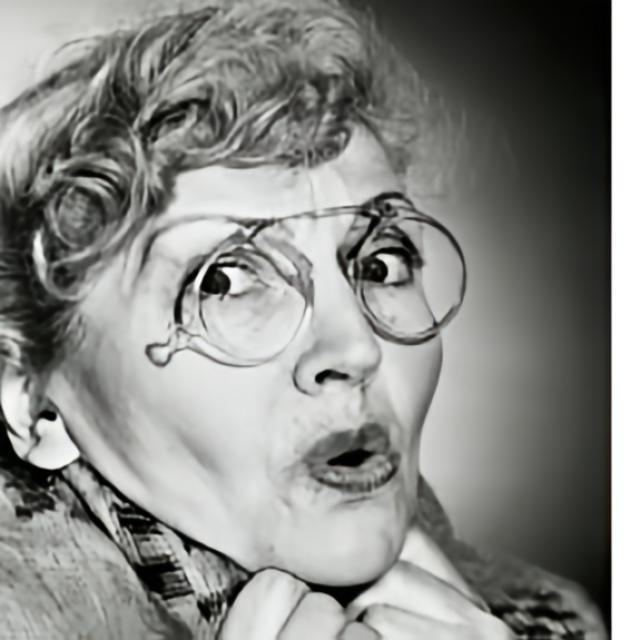fear: (82, 90, 447, 586)
